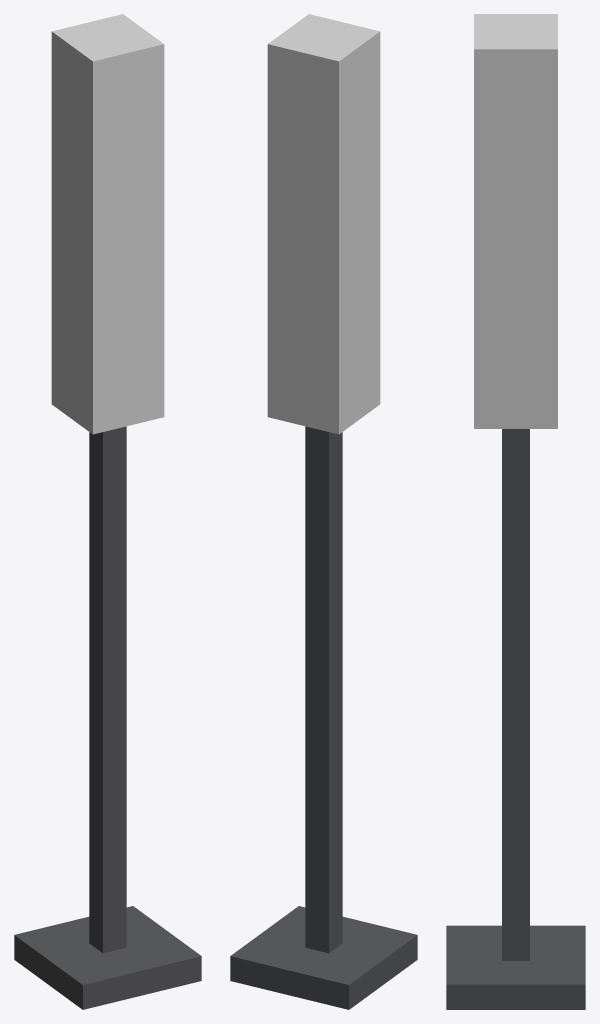
The model's file is floor_lamp_01.glb.
3 renders of one model, left to right at view 1: azimuth 30°, elevation 25°; view 2: azimuth 150°, elevation 25°; view 3: azimuth 270°, elevation 25°, orthographic.
Parts seen in each view (by area): view 1: Untitled, Untitled.001; view 2: Untitled, Untitled.001; view 3: Untitled, Untitled.001.
Part boxes in pixels (bbox=[...]): Untitled: bbox=[51, 14, 164, 434]; Untitled.001: bbox=[14, 426, 201, 1009]; Untitled: bbox=[267, 14, 380, 434]; Untitled.001: bbox=[230, 426, 417, 1009]; Untitled: bbox=[474, 14, 557, 428]; Untitled.001: bbox=[446, 429, 585, 1009].
Size of the model in its own units: 0.3 by 2.25 by 0.3.
Materials: 2 (2 with a texture image).
